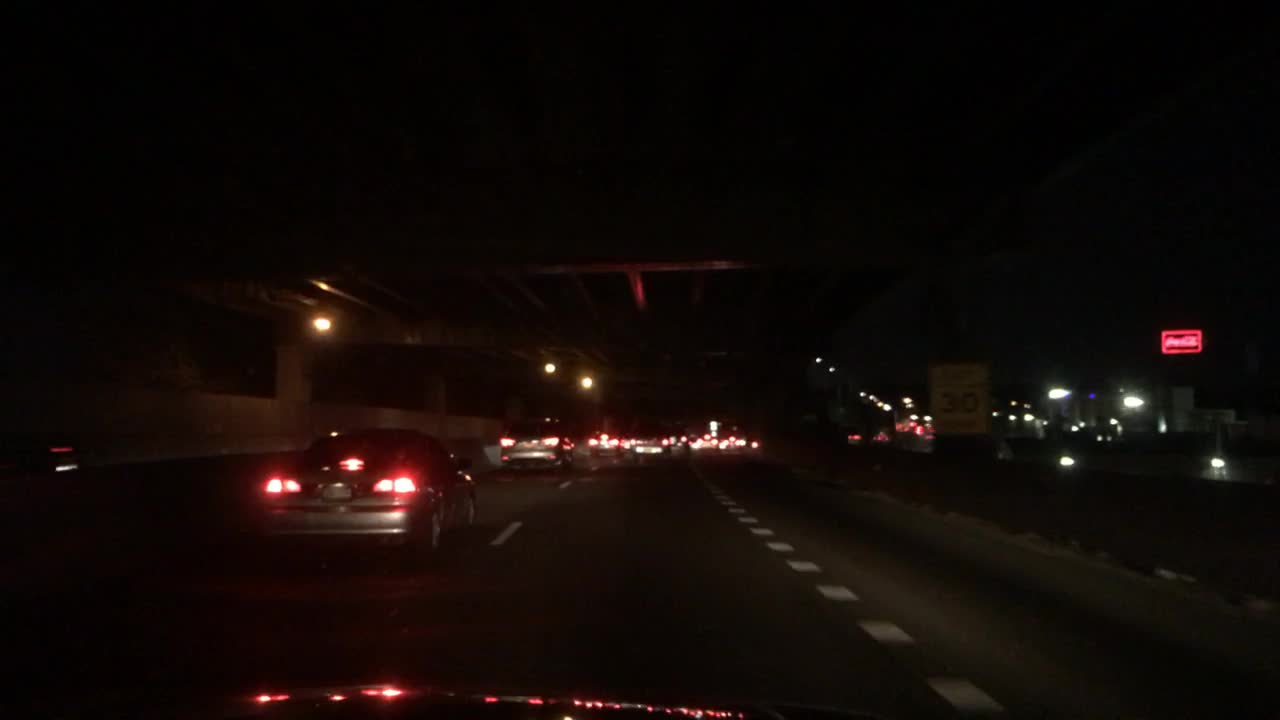car: (261, 425, 471, 563), (0, 410, 76, 484), (499, 408, 572, 469), (629, 436, 667, 460), (589, 428, 621, 456), (682, 433, 719, 450), (721, 431, 748, 450), (903, 420, 932, 436), (874, 428, 892, 443), (848, 428, 860, 442)
traffic sign: (924, 364, 989, 434)
